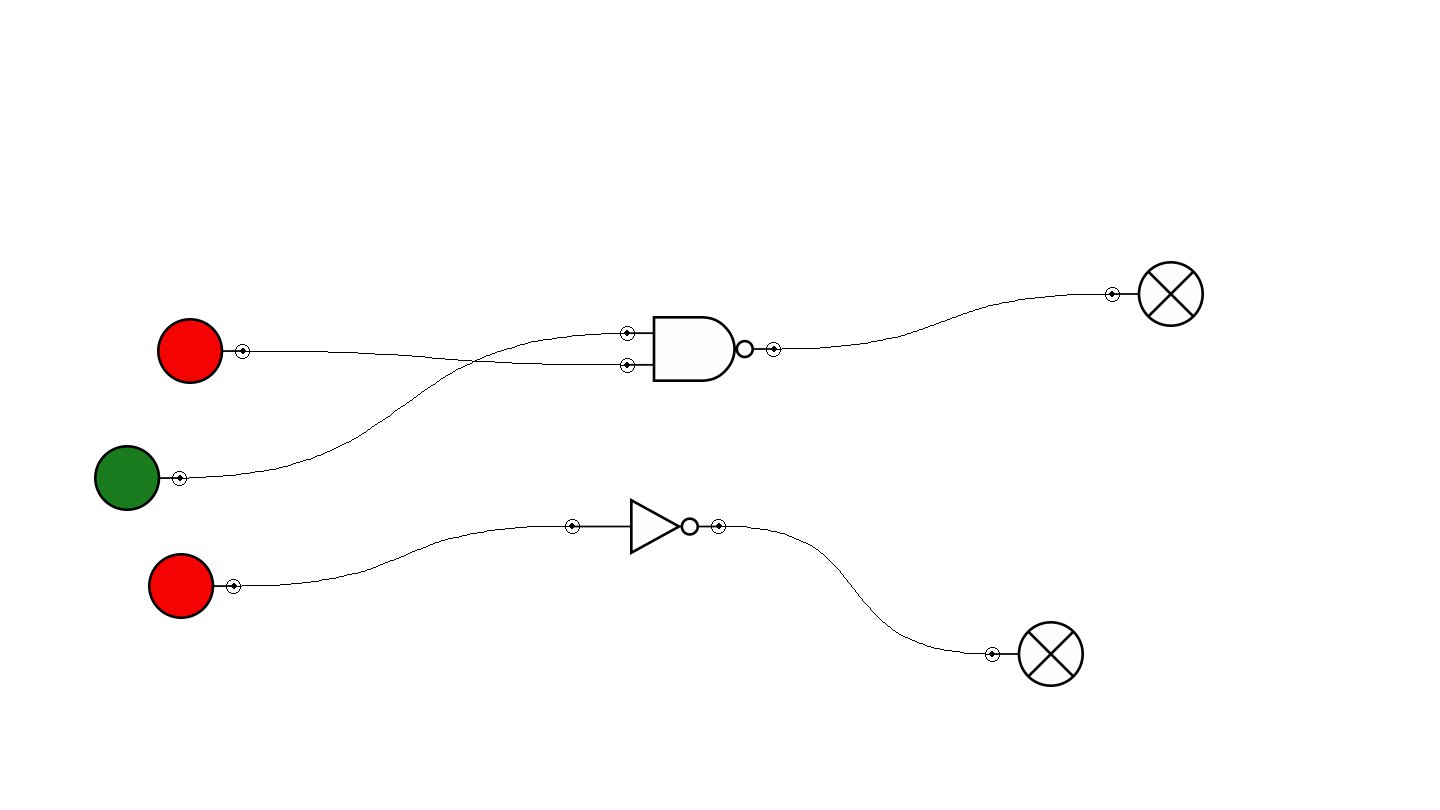bulb: (1105, 261, 1204, 327), (985, 621, 1084, 687)
nand: (620, 316, 781, 382)
not: (565, 498, 726, 555)
switch_False: (157, 318, 250, 384), (148, 553, 241, 619)
switch_True: (94, 445, 187, 511)
